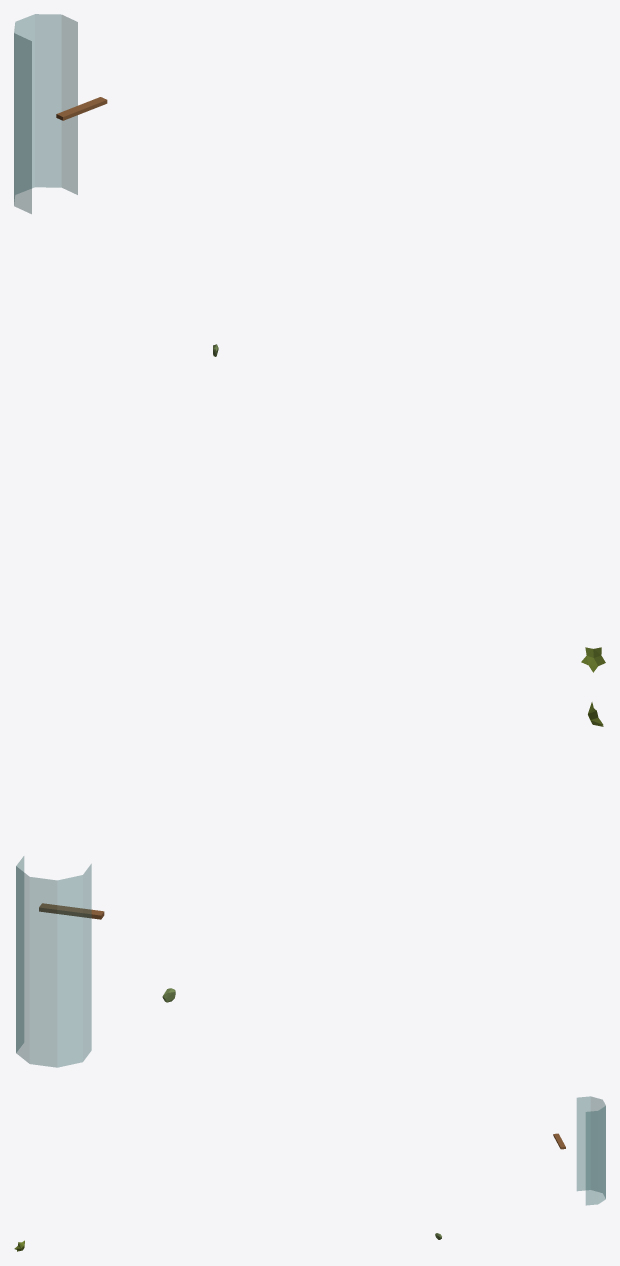
3 renders of one model, top to bottom at view 1: azimuth 30°, elevation 25°; view 2: azimuth 150°, elevation 25°; view 3: azimuth 270°, elevation 25°, orthographic. The views are drawn at different scales.
Parts seen in each view (by area): view 1: Plane259_glass_0; view 2: Plane259_glass_0, Box597_brown_0; view 3: Plane259_glass_0.
Part boxes in pixels (x1,y1,x2,y2): Plane259_glass_0: (14, 14, 77, 213); Plane259_glass_0: (16, 856, 91, 1067); Box597_brown_0: (39, 903, 104, 919); Plane259_glass_0: (577, 1096, 605, 1205).
Size of the model in its own units: 391 by 1500 by 5652.
